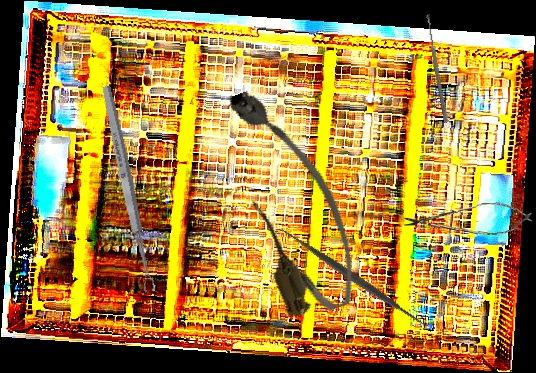Cannula: (213, 75, 371, 324)
Micro Scissor: (401, 200, 535, 240)
Spatula Surgical: (272, 218, 434, 337)
Surgical Spoon: (99, 84, 157, 294), (424, 13, 450, 124)
